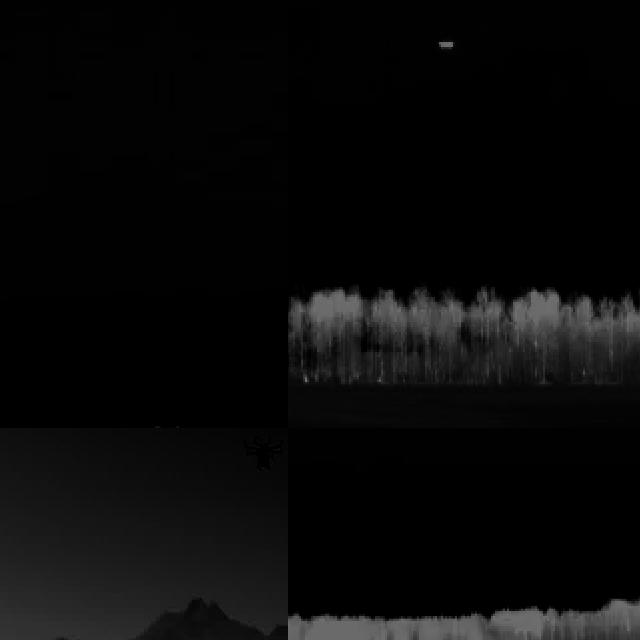1: (428, 33, 464, 63)
drone: (243, 430, 285, 476)
